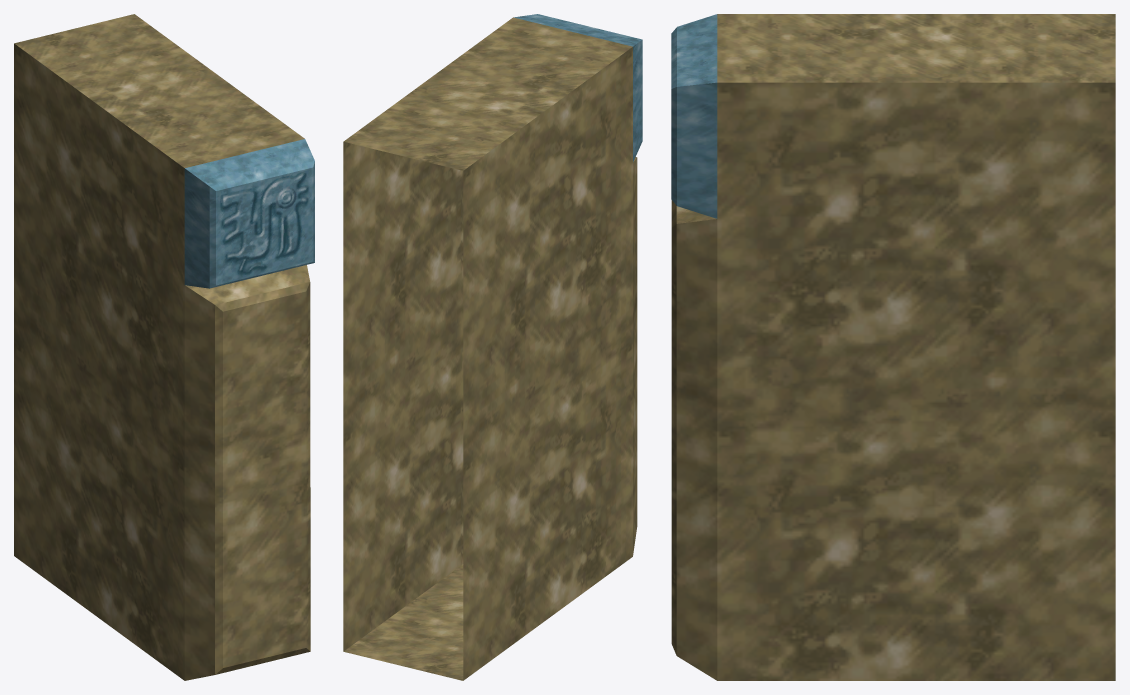
File: ShutterDoorA_bake.dae
3 views of the same model, side by side, from view 1: azimuth 30°, elevation 25°; view 2: azimuth 150°, elevation 25°; view 3: azimuth 270°, elevation 25° (orthographic). The views are drawn at different scales.
Visible parts, largest first — view 1: m0, m1; view 2: m0, m1; view 3: m0, m1.
Boxes of the visible parts, x1,y1,x2,y2 form: m0: [14, 14, 310, 680]; m1: [184, 139, 314, 288]; m0: [343, 17, 637, 680]; m1: [513, 14, 642, 162]; m0: [671, 14, 1115, 680]; m1: [671, 14, 717, 218].
Size of the model in its own units: 300 by 1220 by 821.
Materials: 3 (3 with a texture image).
